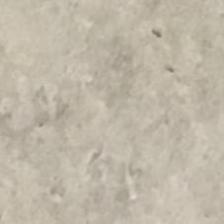Non_Crack: (18, 19, 224, 210)
